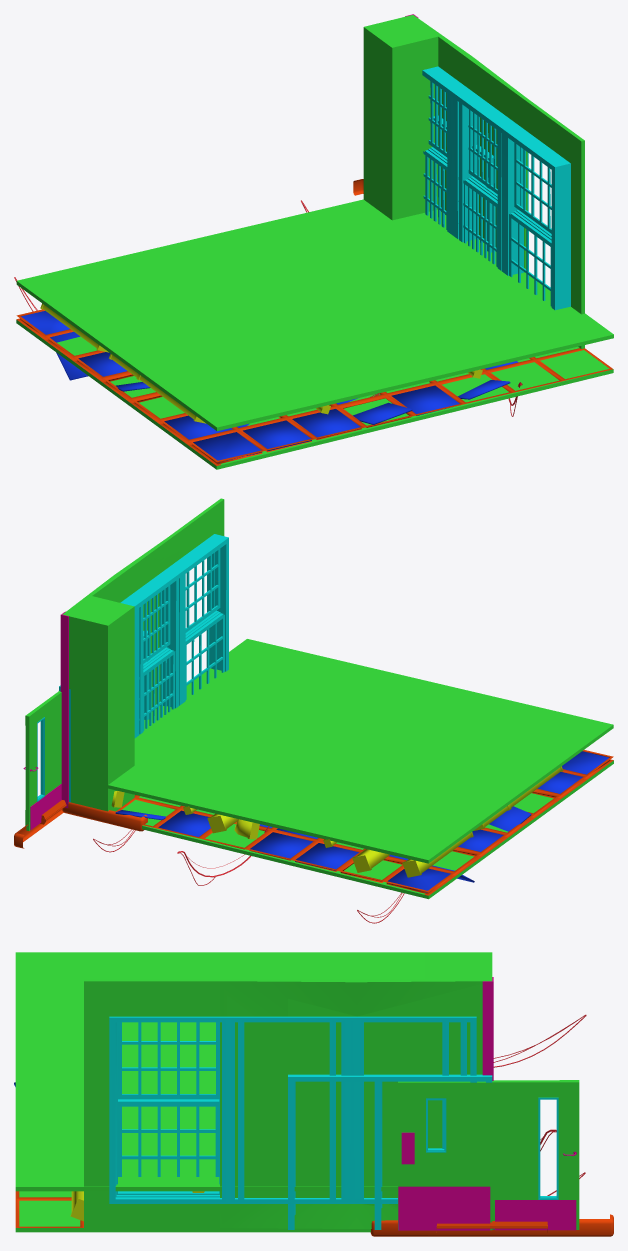
Rendered from TO_Jam_Modkit.fbx.
3 renders of one model, top to bottom at view 1: azimuth 30°, elevation 25°; view 2: azimuth 150°, elevation 25°; view 3: azimuth 270°, elevation 25°, orthographic. The views are drawn at different scales.
Visible parts, largest first — view 1: ICU_RoofSet_1_7/8U, ICU_WindowSet_Large_6U_, ICU_PillarSet_Large_1U_, ICU_FloorSet_1_7/8U_, ICU_WindowSet_Medium_4U_, ICU_WindowSet_Small_3U_, ICU_WallSet_4_4U_; view 2: ICU_RoofSet_1_7/8U, ICU_WindowSet_Large_6U_, ICU_PillarSet_Large_1U_, ICU_FloorSet_1_7/8U_, ICU_DoorSet_SingleDoor_2U_, ICU_WindowSet_Medium_4U_, ICU_WallSet_LargeCorner_1/U_, ICU_RailingSet_Corner_3U_, ICU_WindowSet_Small_3U_; view 3: ICU_RoofSet_1_7/8U, ICU_WindowSet_Large_6U_, ICU_WindowSet_Medium_4U_, ICU_DoorSet_DoubleDoorR_3U_, ICU_DoorSet_SingleDoor_2U_, ICU_DoorwaySet_Single_2U_, ICU_WallSet_4_4U_, ICU_DoorwaySet_Double_3U_, ICU_WindowSet_Small_3U_, ICU_FloorSet_1_7/8U_, ICU_WallSet_2_2U_, ICU_RailingSet_Straight_4U_ (+5 smaller).
Part boxes in pixels (<box>): ICU_RoofSet_1_7/8U: <box>14,199,613,465</box>; ICU_WindowSet_Large_6U_: <box>410,15,584,348</box>; ICU_PillarSet_Large_1U_: <box>363,15,438,220</box>; ICU_FloorSet_1_7/8U_: <box>16,319,613,469</box>; ICU_WindowSet_Medium_4U_: <box>419,19,527,270</box>; ICU_WindowSet_Small_3U_: <box>412,15,493,242</box>; ICU_WallSet_4_4U_: <box>441,129,527,272</box>; ICU_RoofSet_1_7/8U: <box>93,639,613,923</box>; ICU_WindowSet_Large_6U_: <box>63,498,228,738</box>; ICU_PillarSet_Large_1U_: <box>66,596,134,811</box>; ICU_FloorSet_1_7/8U_: <box>122,760,613,899</box>; ICU_DoorSet_SingleDoor_2U_: <box>23,691,61,830</box>; ICU_WindowSet_Medium_4U_: <box>66,537,178,730</box>; ICU_WallSet_LargeCorner_1/U_: <box>60,611,68,808</box>; ICU_RailingSet_Corner_3U_: <box>62,802,147,831</box>; ICU_WindowSet_Small_3U_: <box>62,600,144,734</box>; ICU_RoofSet_1_7/8U: <box>14,952,586,1227</box>; ICU_WindowSet_Large_6U_: <box>84,979,492,1227</box>; ICU_WindowSet_Medium_4U_: <box>220,979,482,1228</box>; ICU_DoorSet_DoubleDoorR_3U_: <box>398,1081,492,1230</box>; ICU_DoorSet_SingleDoor_2U_: <box>492,1080,579,1230</box>; ICU_DoorwaySet_Single_2U_: <box>356,993,482,1229</box>; ICU_WallSet_4_4U_: <box>244,1022,341,1197</box>; ICU_DoorwaySet_Double_3U_: <box>288,984,492,1229</box>; ICU_WindowSet_Small_3U_: <box>295,980,491,1209</box>; ICU_FloorSet_1_7/8U_: <box>15,1191,370,1232</box>; ICU_WallSet_2_2U_: <box>374,1057,480,1197</box>; ICU_RailingSet_Straight_4U_: <box>370,1214,613,1236</box>.
Bounding box in the file's own units: 819 × 477 × 881.
